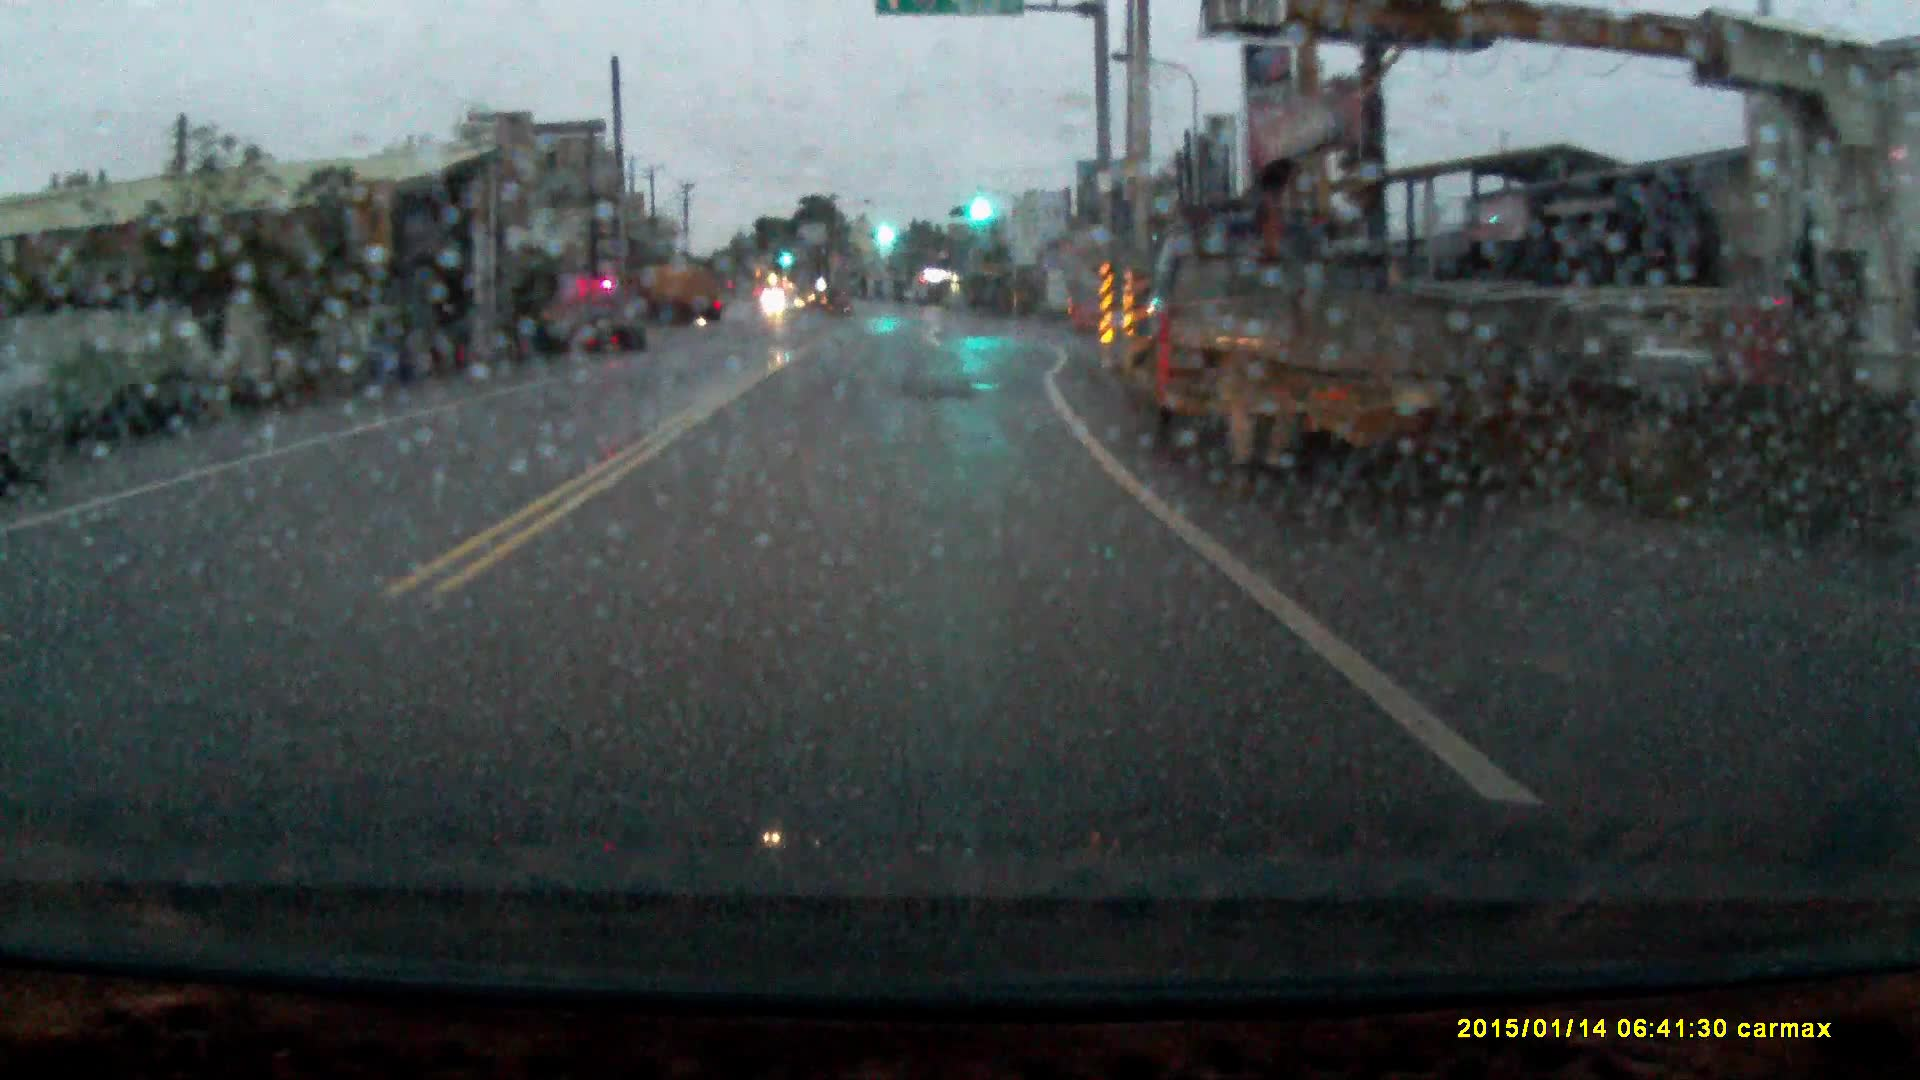vehicle: (1139, 208, 1582, 498), (626, 255, 720, 322)
